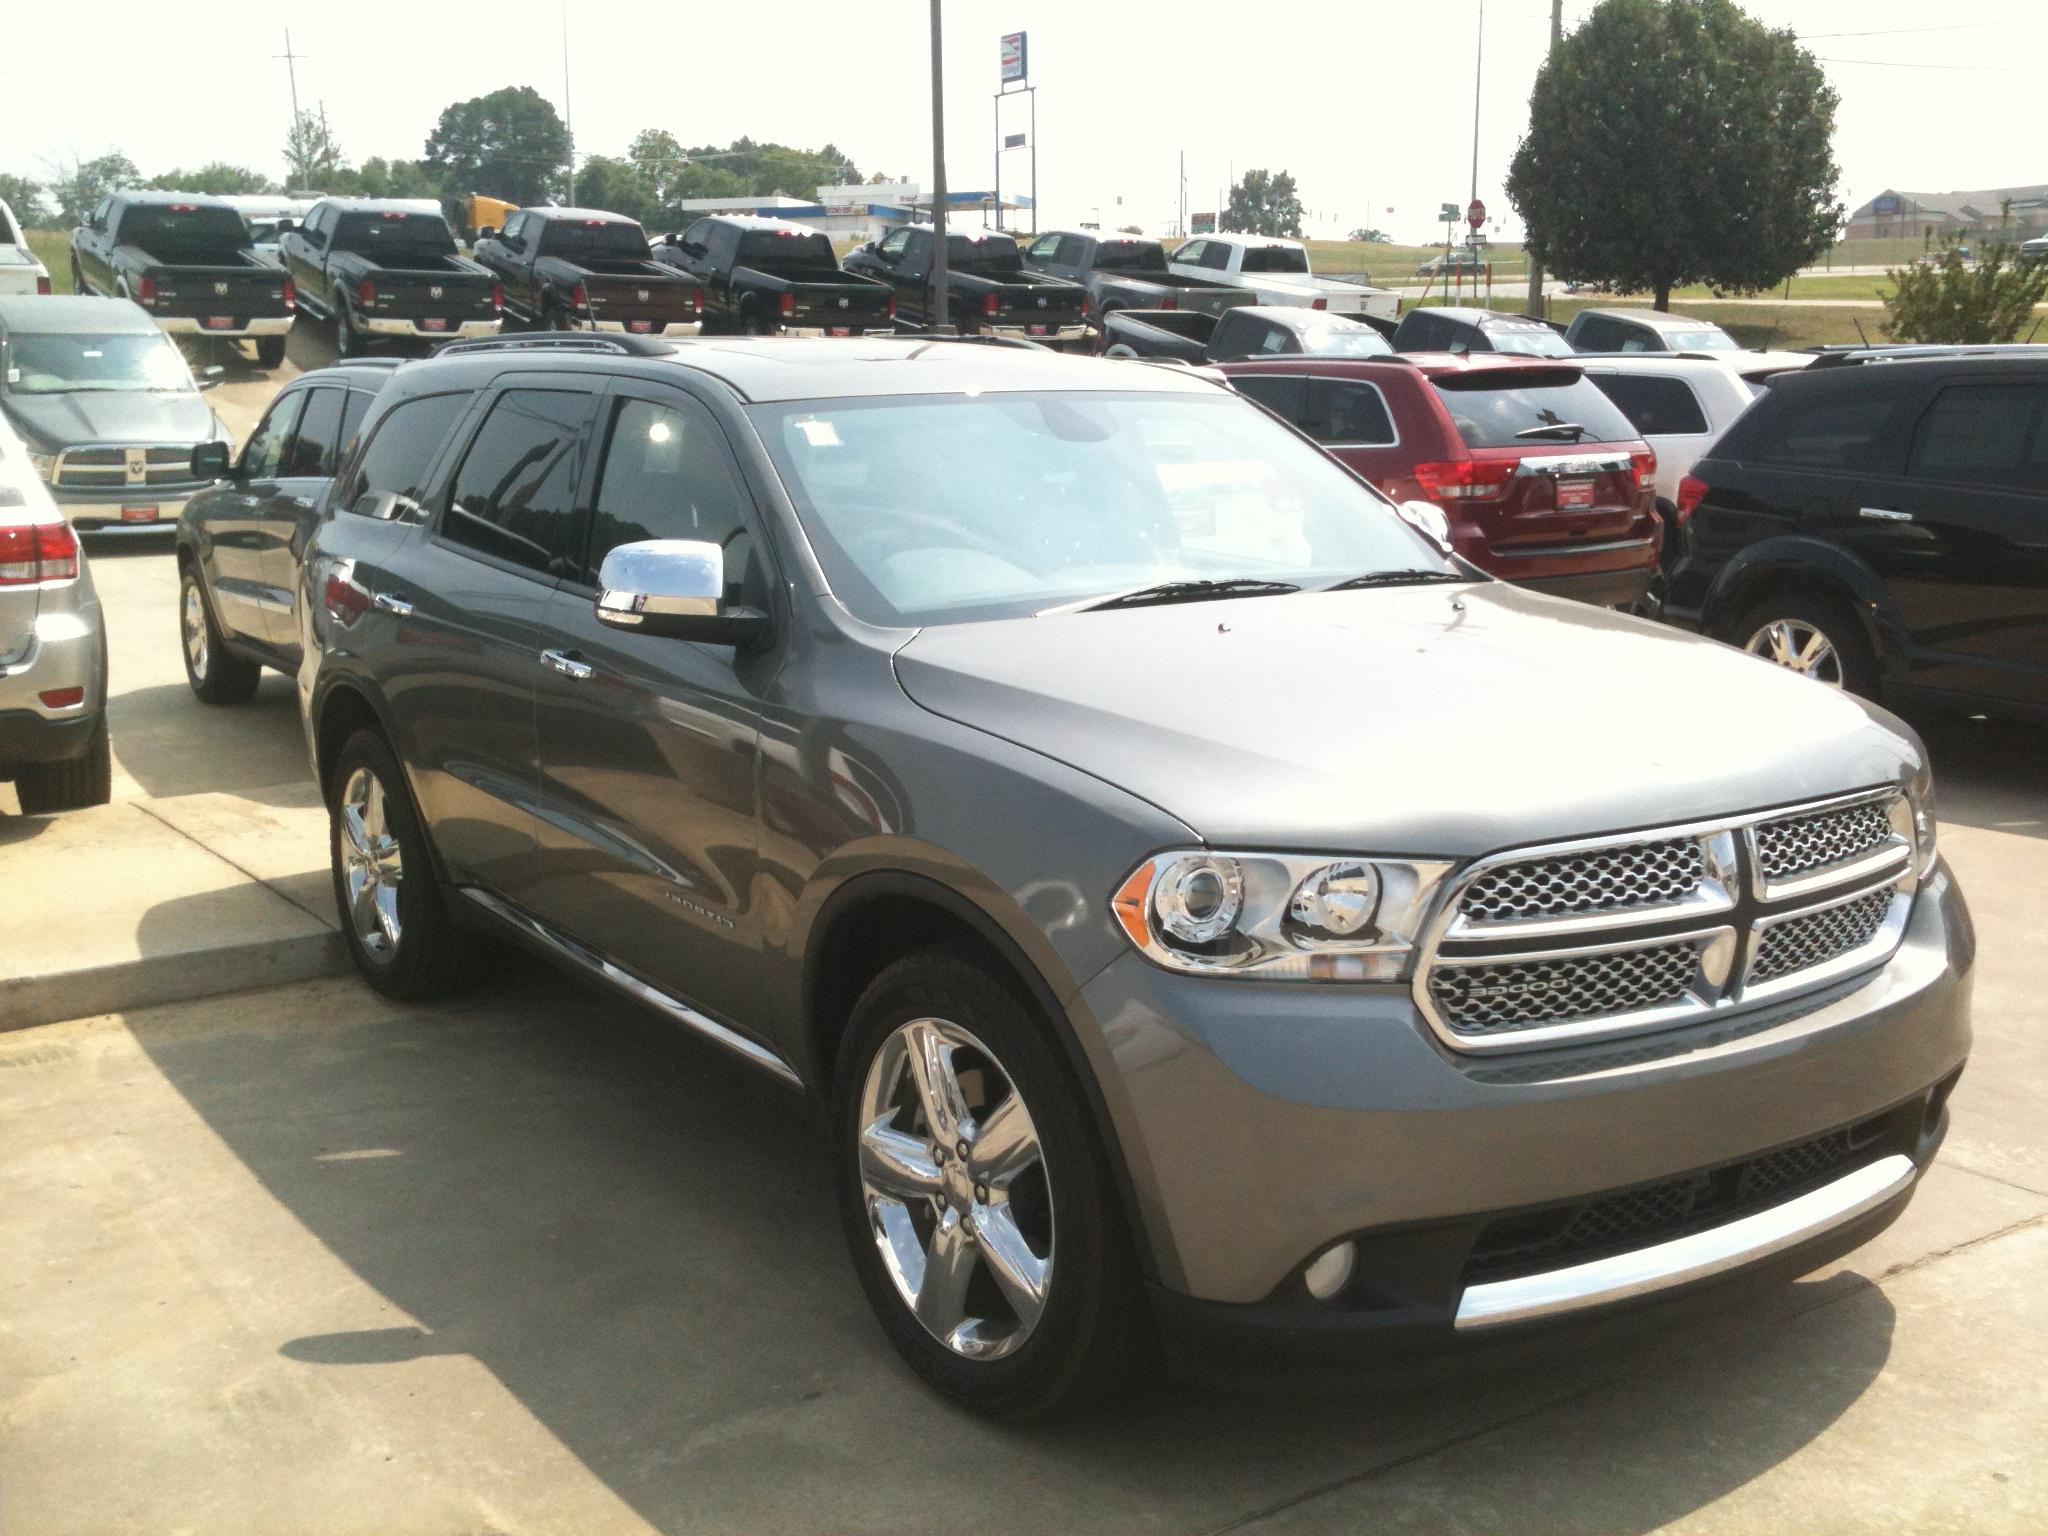Car: (258, 271, 2048, 1481), (1596, 307, 2048, 828), (1322, 326, 1732, 657)
